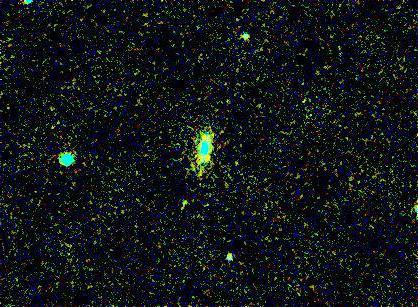star: (173, 186, 203, 216)
